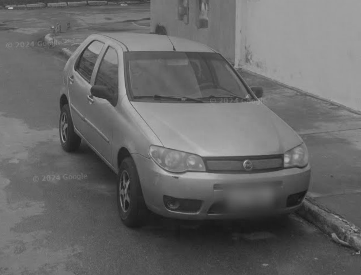car: (58, 31, 311, 245)
